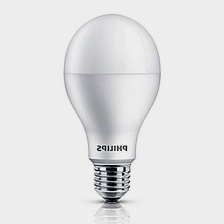light_bulb: (56, 7, 166, 204)
